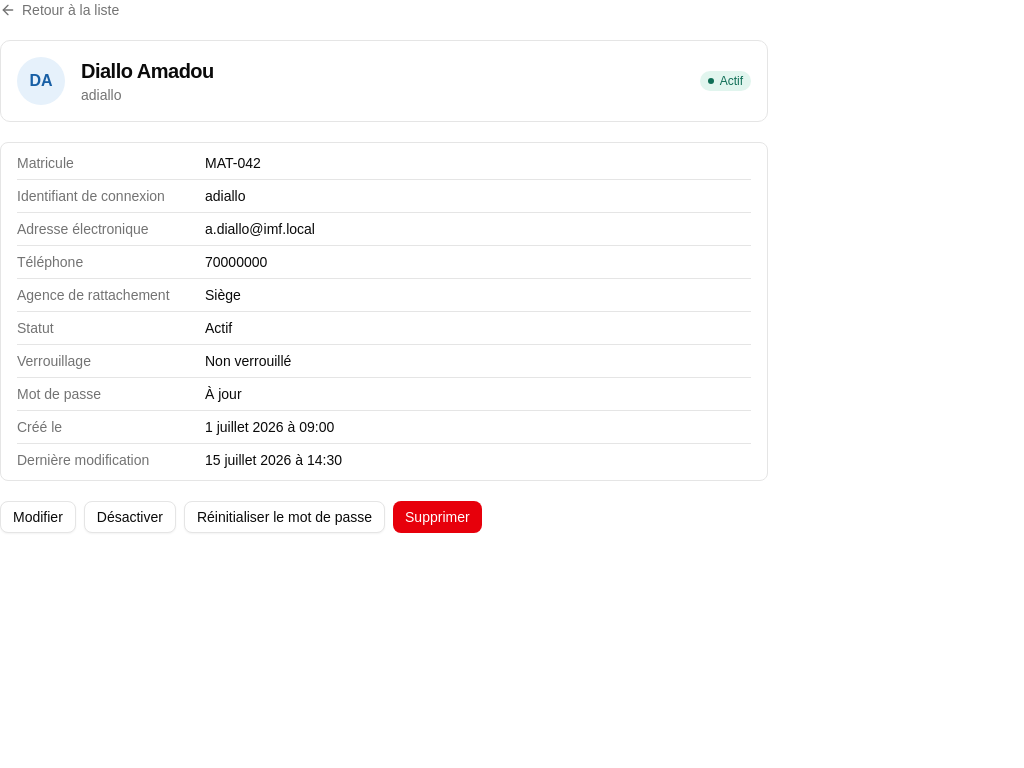
Test case: PageFicheUtilisateur › supprimer demande une confirmation explicite (pas un simple OK)
The width and height of the screenshot is (1024, 768).
Expected: the text "MAT-042" is shown, 205,155 -> 261,171
Click the button "Supprimer": [437, 517] box 393,501 -> 482,533
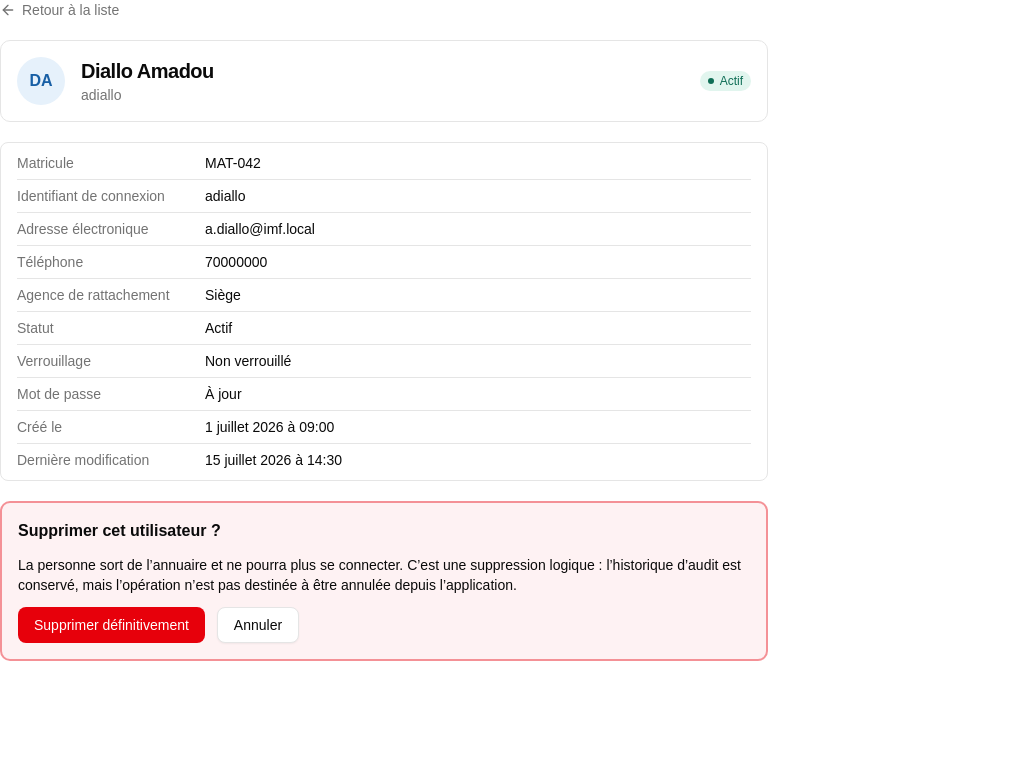
Now the text "suppression logique" is shown, box 18,557 -> 741,593
Now the button "Supprimer définitivement" is shown, box 18,607 -> 205,643
